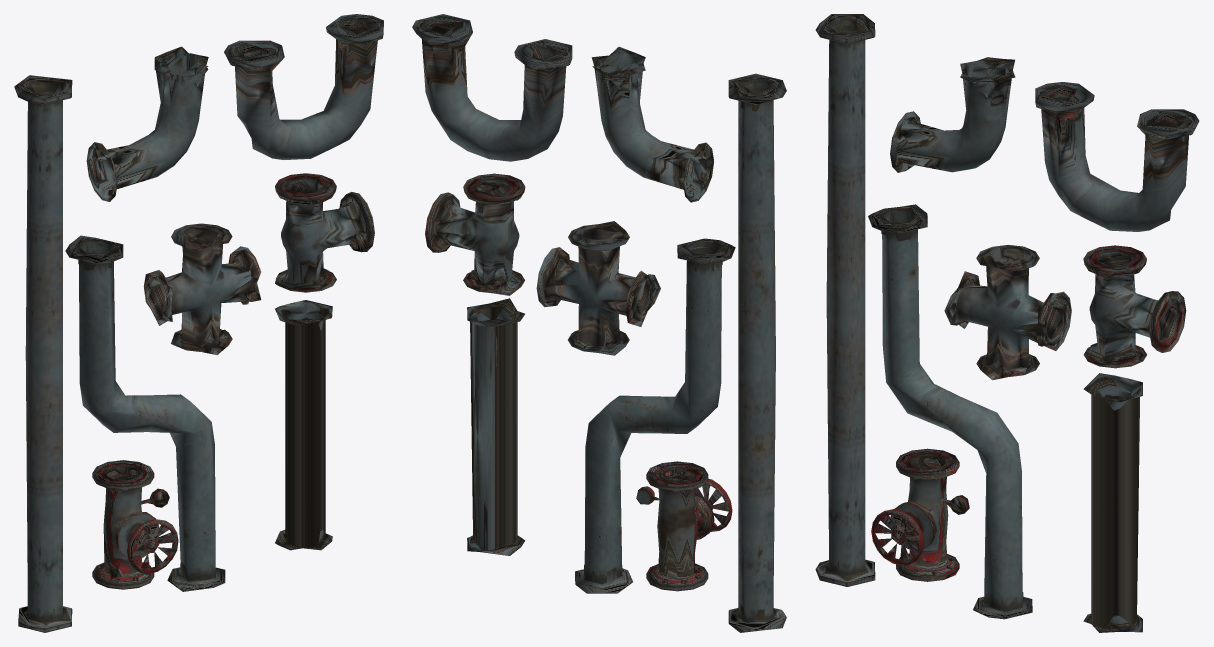
File: modular_industrial_pipes_01.glb
3 views of the same model, side by side, from view 1: azimuth 30°, elevation 25°; view 2: azimuth 150°, elevation 25°; view 3: azimuth 330°, elevation 25° (orthographic). The views are drawn at different scales.
Parts seen in each view (by area): view 1: modular_industrial_pipes_01_pipe02, modular_industrial_pipes_01_pipe03, modular_industrial_pipes_01_pipe05, modular_industrial_pipes_01_pipe01, modular_industrial_pipes_01_pipe07, modular_industrial_pipes_01_pipe04, modular_industrial_pipes_01_pipe06, modular_industrial_pipes_01_pipe08; view 2: modular_industrial_pipes_01_pipe02, modular_industrial_pipes_01_pipe03, modular_industrial_pipes_01_pipe05, modular_industrial_pipes_01_pipe01, modular_industrial_pipes_01_pipe07, modular_industrial_pipes_01_pipe04, modular_industrial_pipes_01_pipe06, modular_industrial_pipes_01_pipe08; view 3: modular_industrial_pipes_01_pipe02, modular_industrial_pipes_01_pipe03, modular_industrial_pipes_01_pipe05, modular_industrial_pipes_01_pipe01, modular_industrial_pipes_01_pipe07, modular_industrial_pipes_01_pipe06, modular_industrial_pipes_01_pipe04, modular_industrial_pipes_01_pipe08.
Part boxes in pixels (<box>): modular_industrial_pipes_01_pipe02: <box>14,75,72,632</box>; modular_industrial_pipes_01_pipe03: <box>65,235,225,591</box>; modular_industrial_pipes_01_pipe05: <box>224,14,383,159</box>; modular_industrial_pipes_01_pipe01: <box>275,300,332,550</box>; modular_industrial_pipes_01_pipe07: <box>143,223,261,354</box>; modular_industrial_pipes_01_pipe04: <box>86,46,208,201</box>; modular_industrial_pipes_01_pipe06: <box>275,173,374,292</box>; modular_industrial_pipes_01_pipe08: <box>92,460,178,589</box>; modular_industrial_pipes_01_pipe02: <box>728,73,786,632</box>; modular_industrial_pipes_01_pipe03: <box>575,238,735,593</box>; modular_industrial_pipes_01_pipe05: <box>412,14,572,161</box>; modular_industrial_pipes_01_pipe01: <box>467,298,525,555</box>; modular_industrial_pipes_01_pipe07: <box>536,221,660,355</box>; modular_industrial_pipes_01_pipe04: <box>591,46,713,202</box>; modular_industrial_pipes_01_pipe06: <box>425,173,525,295</box>; modular_industrial_pipes_01_pipe08: <box>636,461,732,591</box>; modular_industrial_pipes_01_pipe02: <box>815,14,875,586</box>; modular_industrial_pipes_01_pipe03: <box>868,204,1032,619</box>; modular_industrial_pipes_01_pipe05: <box>1035,82,1199,231</box>; modular_industrial_pipes_01_pipe01: <box>1083,373,1142,632</box>; modular_industrial_pipes_01_pipe07: <box>944,245,1071,380</box>; modular_industrial_pipes_01_pipe06: <box>1083,245,1186,368</box>; modular_industrial_pipes_01_pipe04: <box>890,57,1015,172</box>; modular_industrial_pipes_01_pipe08: <box>871,448,969,581</box>.
Size of the model in its own units: 1.4 by 1.95 by 0.3075.
Materials: 2 (2 with a texture image).
